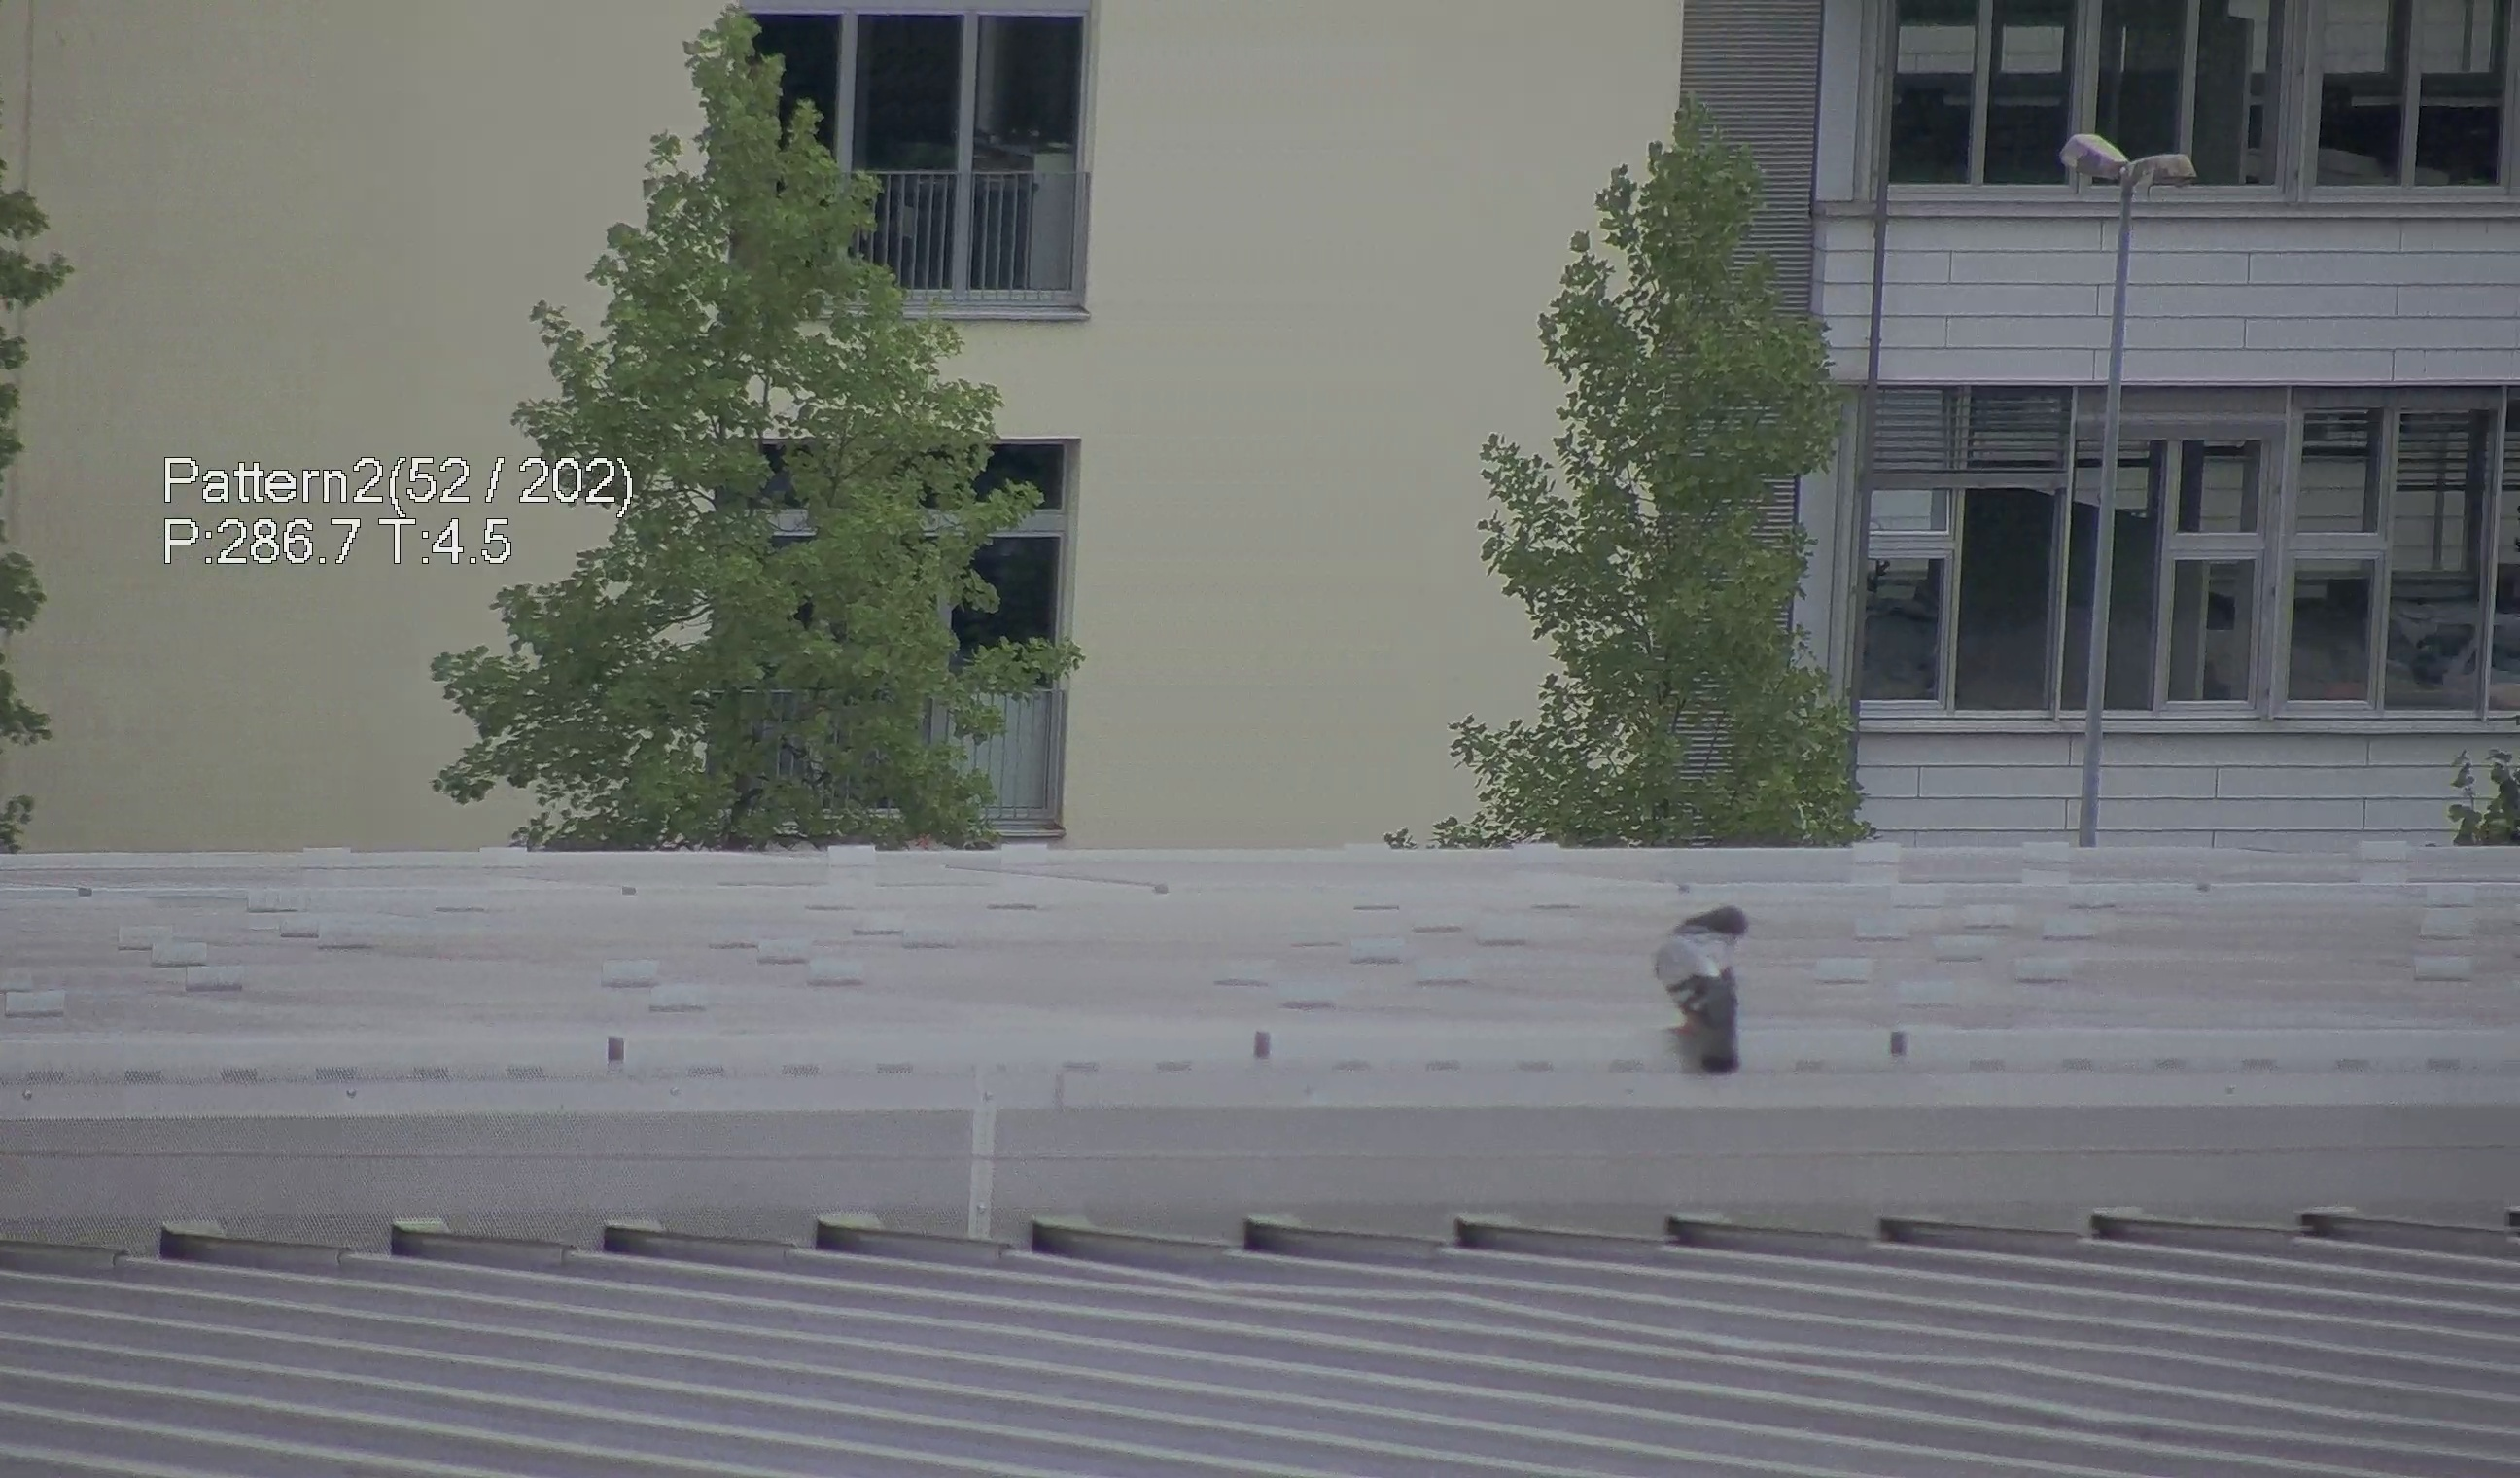Pigeon: (1650, 889, 1767, 1073)
